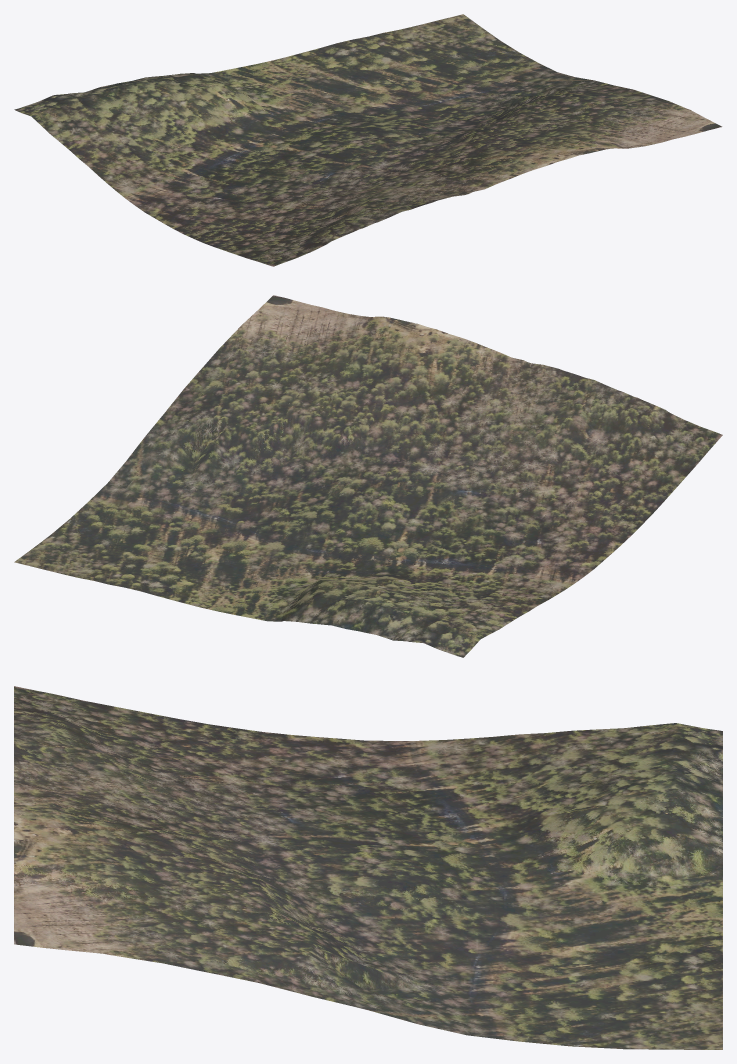
Rendered from CM_Terrain_24490868_6816312.fbx.
The picture shows the model from 3 angles, top to bottom: view 1: azimuth 30°, elevation 25°; view 2: azimuth 150°, elevation 25°; view 3: azimuth 270°, elevation 25°; orthographic projection. The views are drawn at different scales.
Visible parts, largest first — view 1: CM_Terrain_24490868_6816312_LOD0; view 2: CM_Terrain_24490868_6816312_LOD0; view 3: CM_Terrain_24490868_6816312_LOD0.
Part boxes in pixels (x1,y1,x2,y2): CM_Terrain_24490868_6816312_LOD0: (14,14,722,266); CM_Terrain_24490868_6816312_LOD0: (14,295,722,657); CM_Terrain_24490868_6816312_LOD0: (14,686,722,1049).
Size of what is drawn, in the model's own units: 205 by 36.52 by 205.
